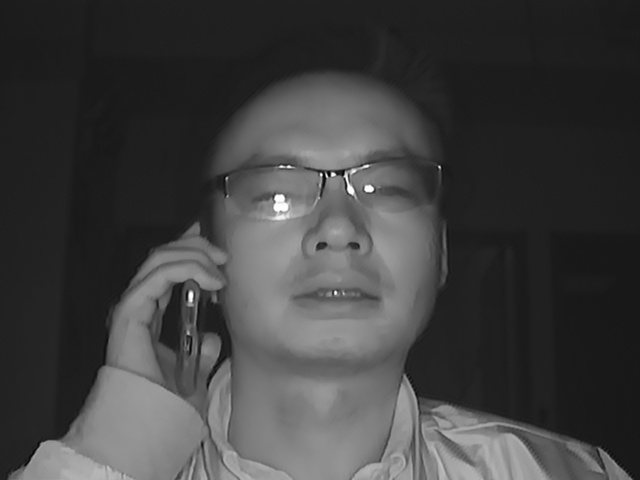hand: (99, 233, 229, 395)
